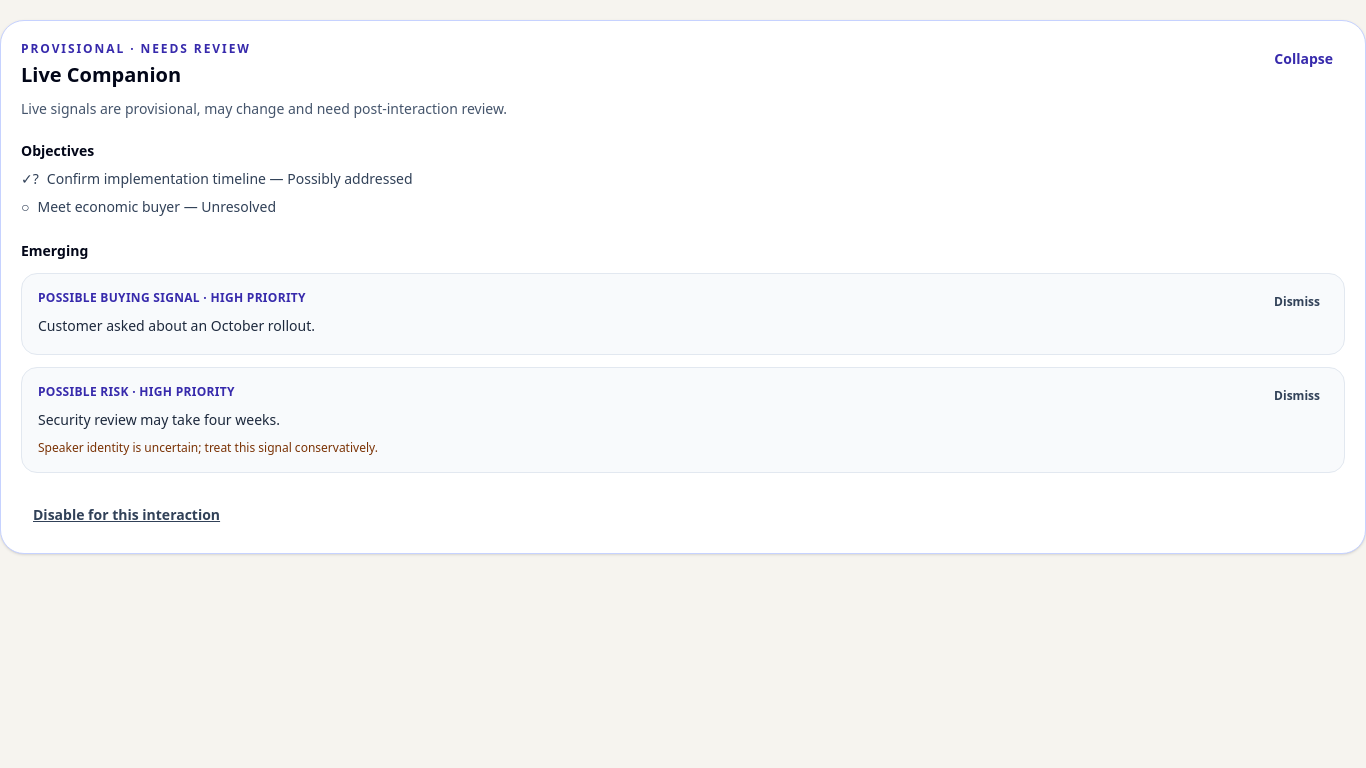
Test: LiveInteractionIntelligence › dismisses an individual provisional signal without a toast or alert
Step 1. Click the button with aria-label "Dismiss possible buying signal" → (1297, 302), box [1266,290,1328,314]
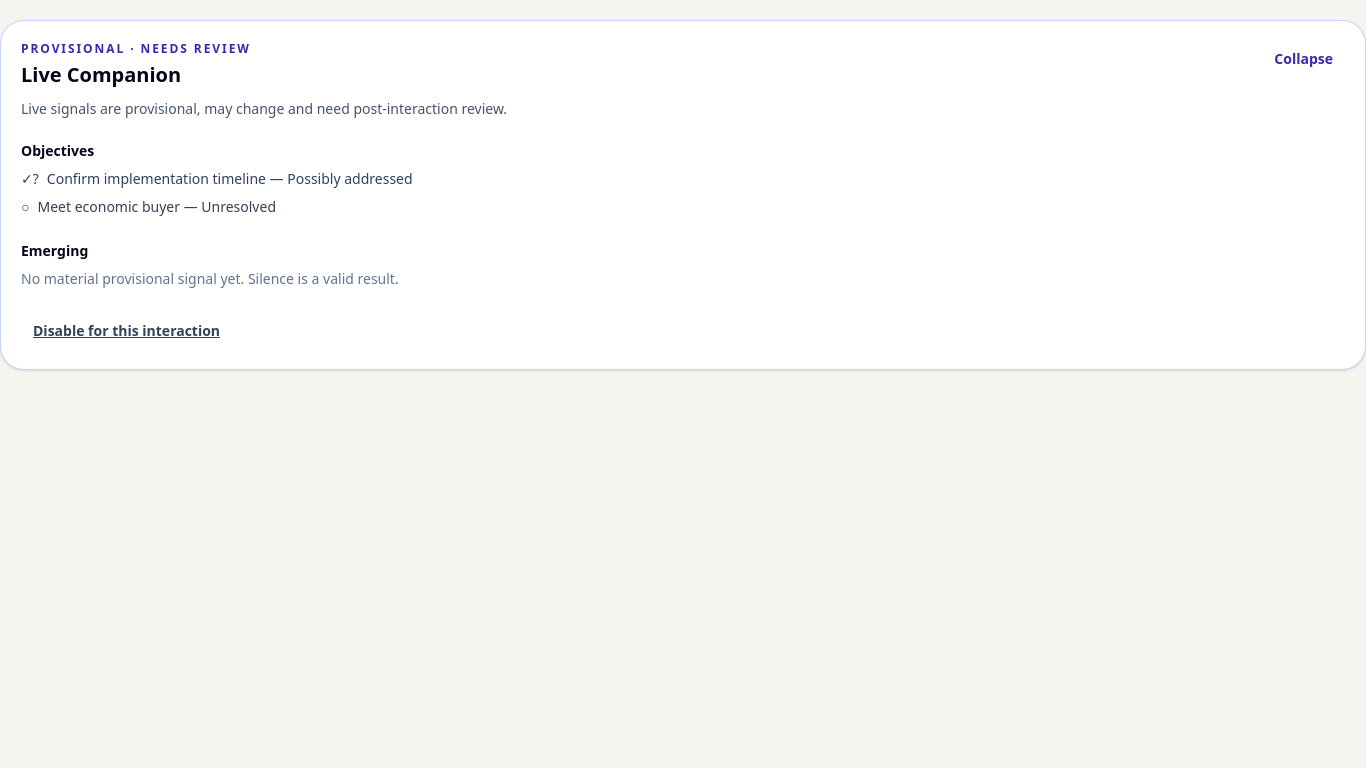
Expected: the text "Customer asked about an October rollout." is gone
